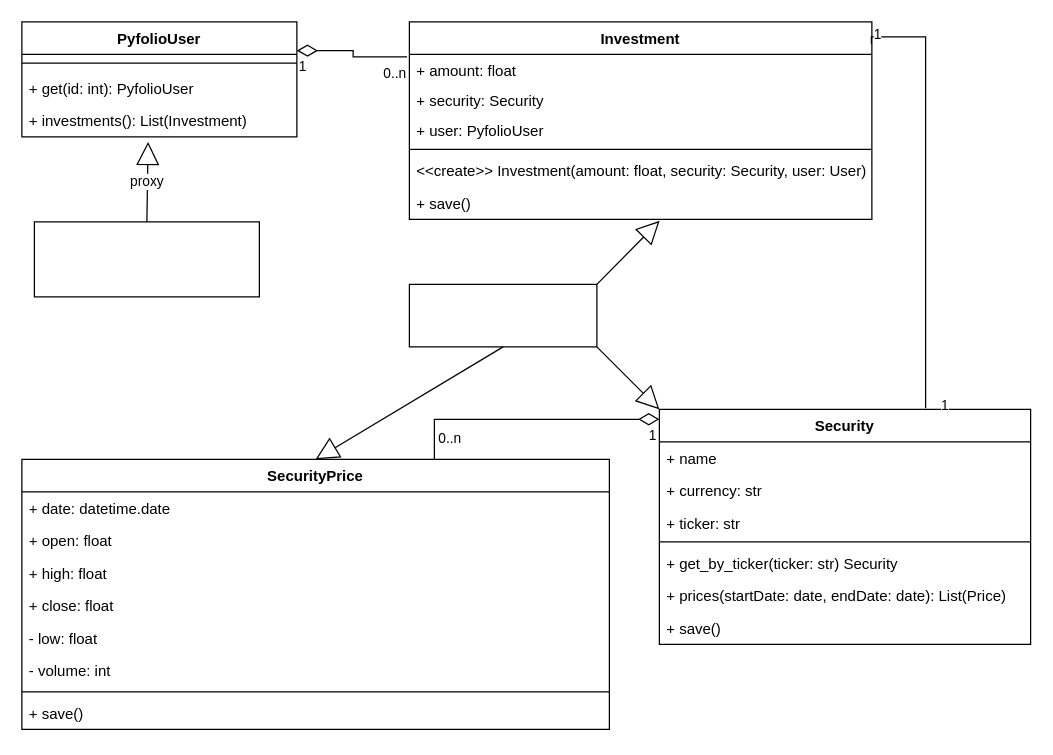
This 1053x755 diagram has some shape labels left out. Each missing label, with the centre of its shape:
"django.contrib.auth.models.User" belongs at point (146, 259).
"django.db.models.Model" belongs at point (502, 315).
